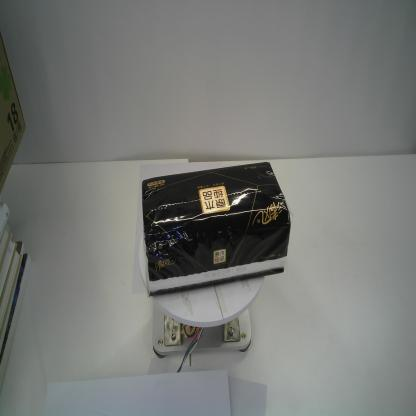Tissue: (140, 157, 292, 298)
